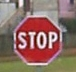stop: (11, 13, 62, 66)
